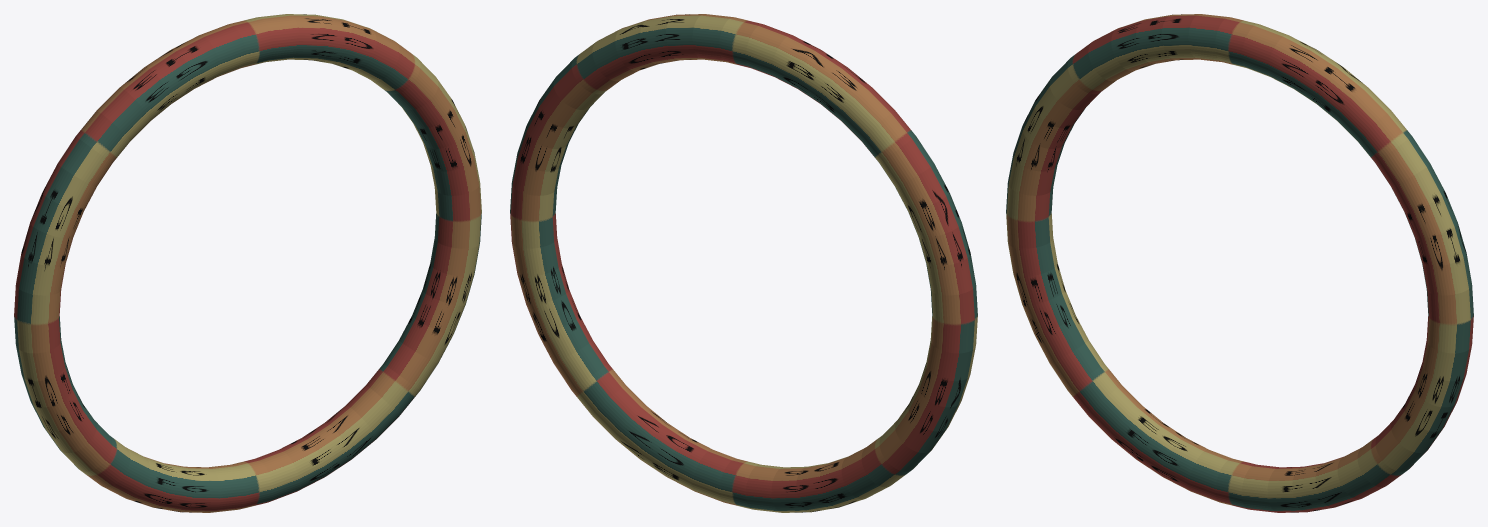
Rendered from texture_torus_R17_r0.glb.
The picture shows the model from 3 angles, left to right: view 1: azimuth 30°, elevation 25°; view 2: azimuth 150°, elevation 25°; view 3: azimuth 330°, elevation 25°; orthographic projection.
Visible parts, largest first — view 1: world; view 2: world; view 3: world.
Part boxes in pixels (box(x1,y1,x2,y2)): world: box(14, 14, 481, 512); world: box(510, 14, 977, 512); world: box(1006, 14, 1473, 512).
Size of the model in its own units: 23.33 by 23.29 by 2.
1 material, 1 textured.
